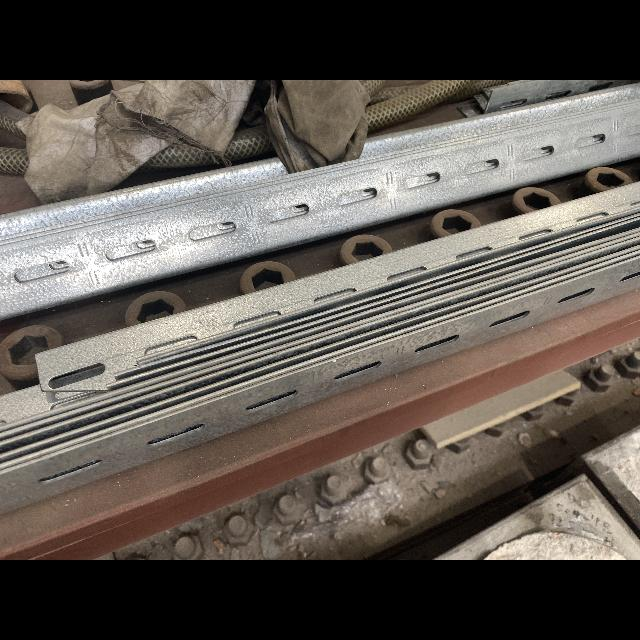Galvanized Steel: (0, 184, 640, 513), (0, 84, 640, 320), (460, 80, 631, 117)
